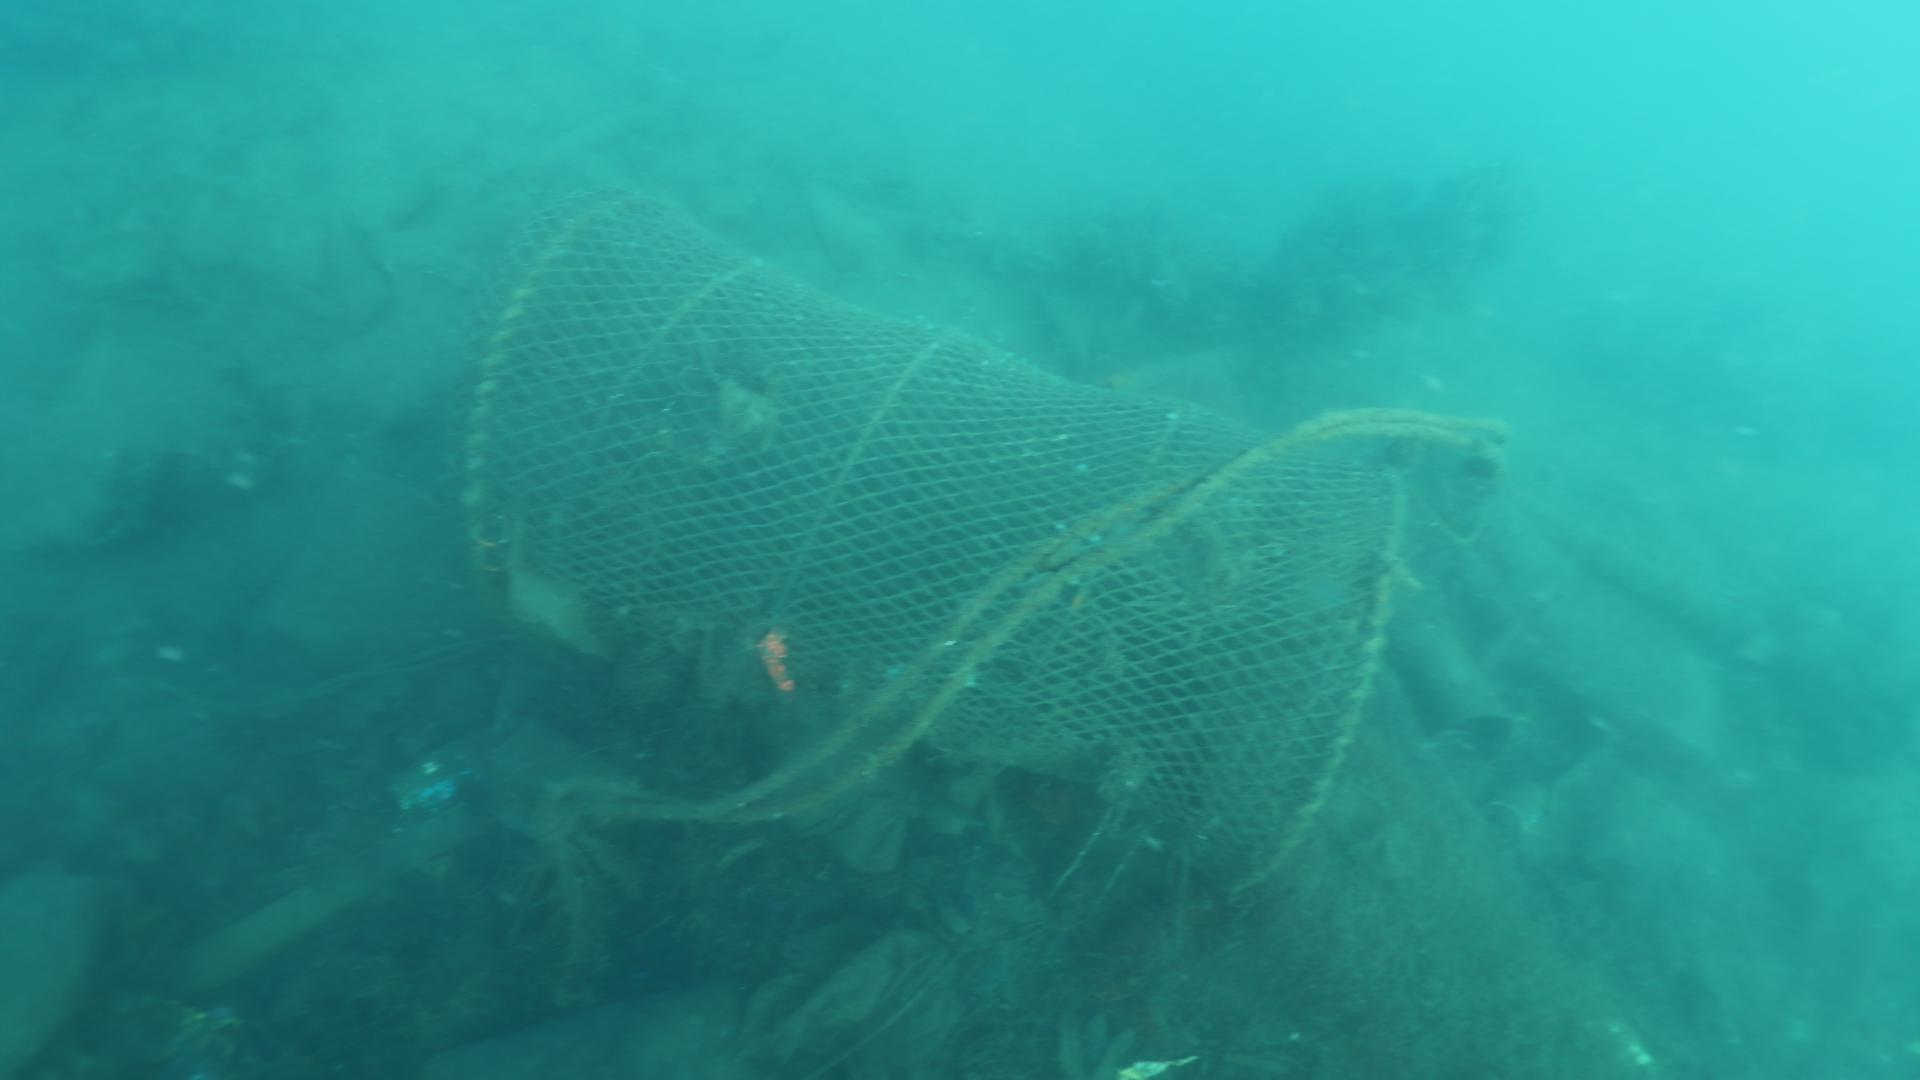bundle of ropes: (538, 409, 1514, 820)
spring fish trap: (454, 194, 1408, 886)
